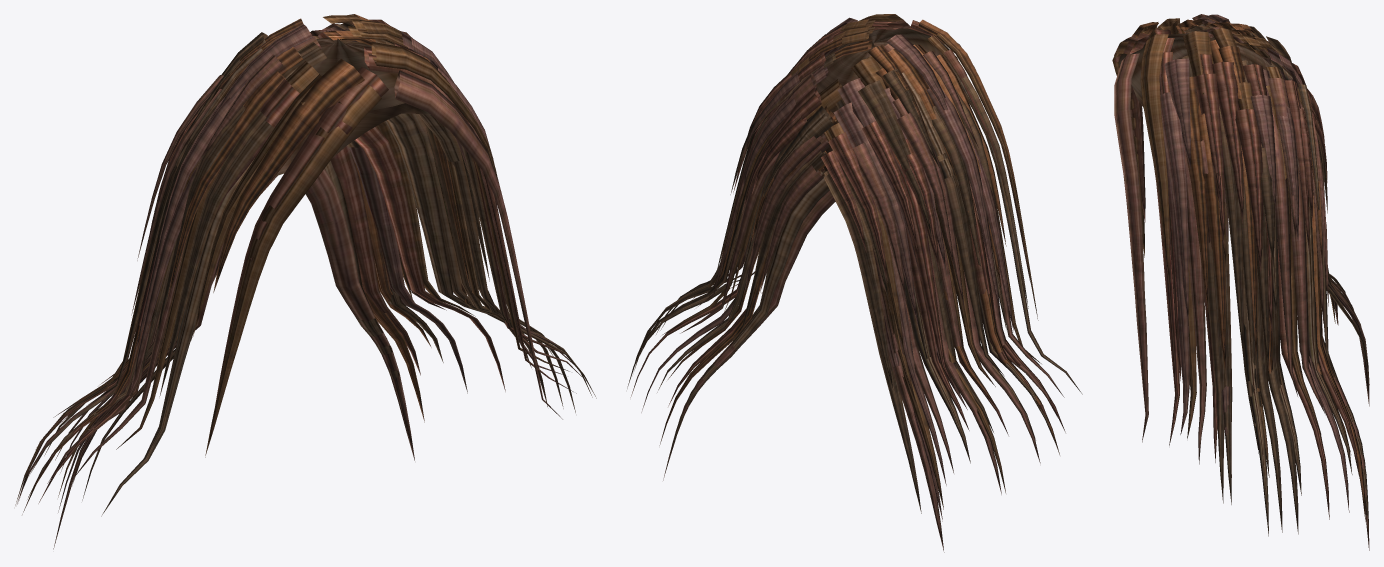
The model's file is repicado.glb.
3 views of the same model, side by side, from view 1: azimuth 30°, elevation 25°; view 2: azimuth 150°, elevation 25°; view 3: azimuth 270°, elevation 25° (orthographic). The views are drawn at different scales.
Parts seen in each view (by area): view 1: cabelo_repicado; view 2: cabelo_repicado; view 3: cabelo_repicado.
Boxes of the visible parts, bbox=[...] form: cabelo_repicado: bbox=[15, 14, 596, 549]; cabelo_repicado: bbox=[627, 14, 1082, 552]; cabelo_repicado: bbox=[1112, 14, 1369, 550].
Bounding box in the file's own units: 0.5024 × 0.4857 × 0.2465.
1 material, 1 textured.
